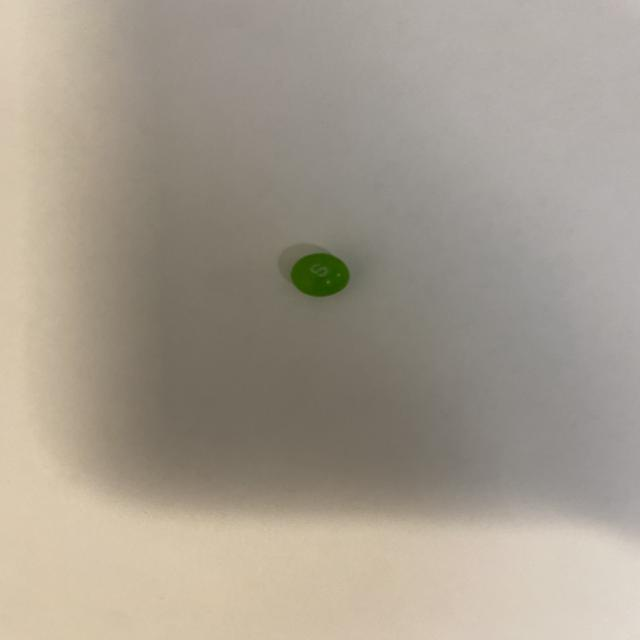smartie: (291, 253, 349, 296)
